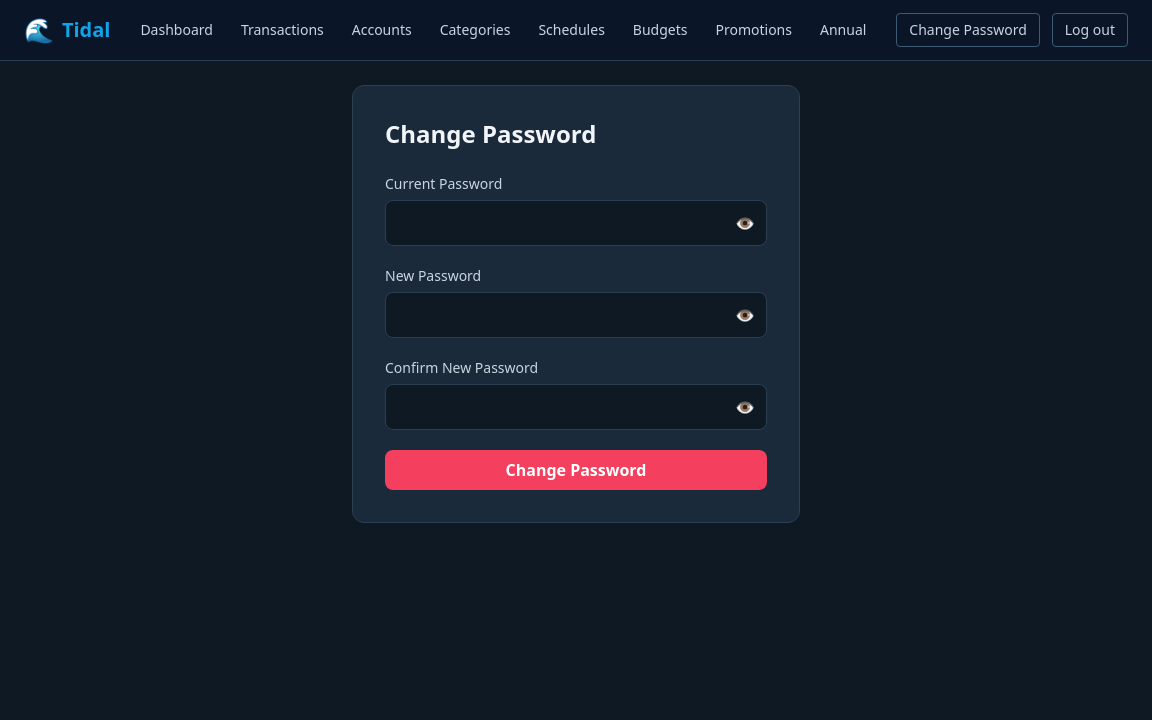
Scenario: ChangePasswordPage › shows an error when new passwords do not match
Type "oldpass123" into the password field labelled "Current Password" at {"x": 576, "y": 223}, box [385, 200, 767, 246]
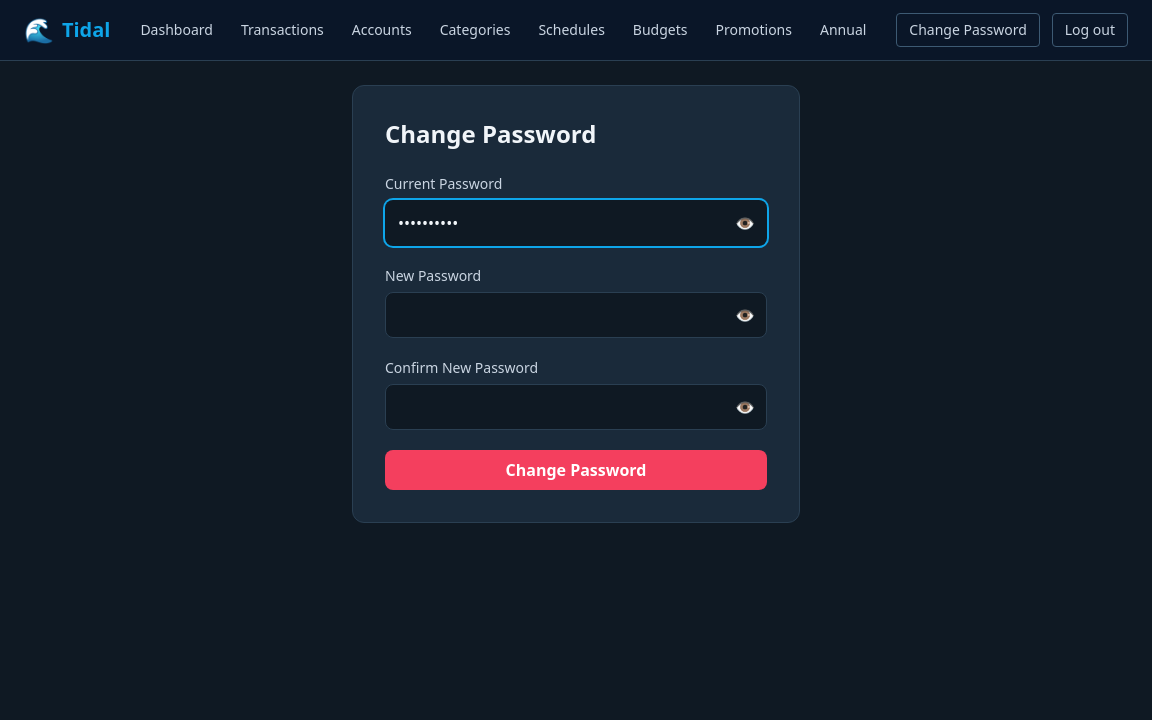
Type "newpass123" into the password field labelled "New Password" at {"x": 576, "y": 315}, box [385, 292, 767, 338]
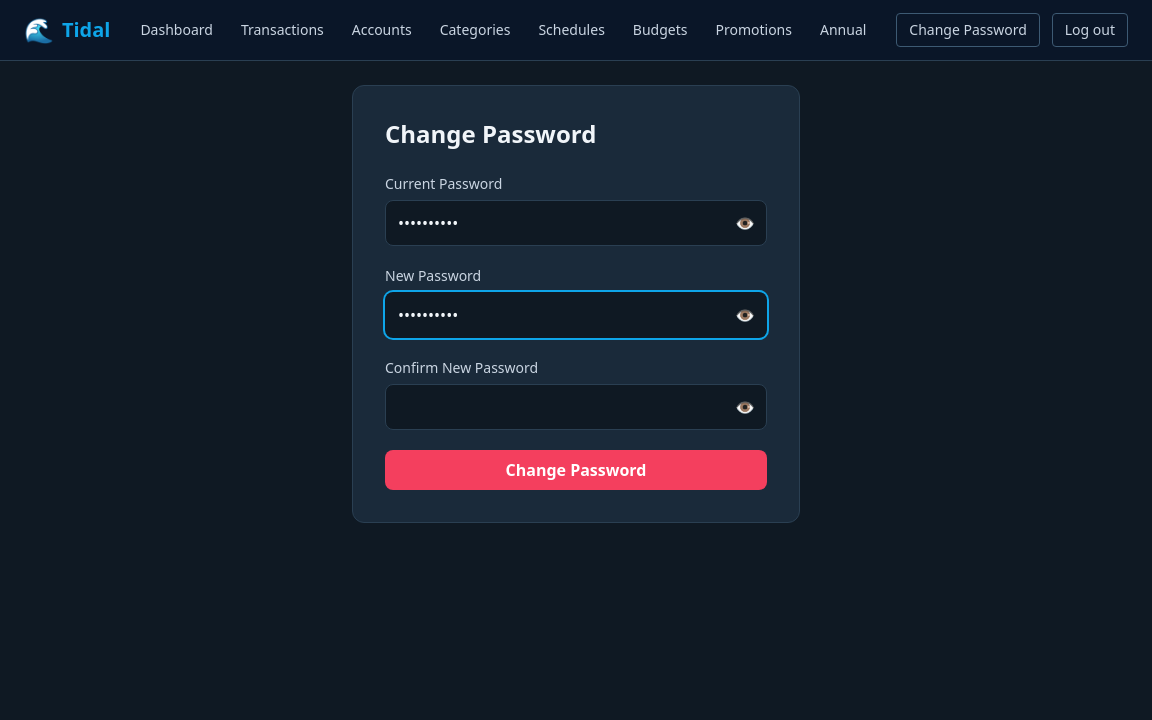
Type "different123" into the password field labelled "Confirm New Password" at {"x": 576, "y": 407}, box [385, 384, 767, 430]
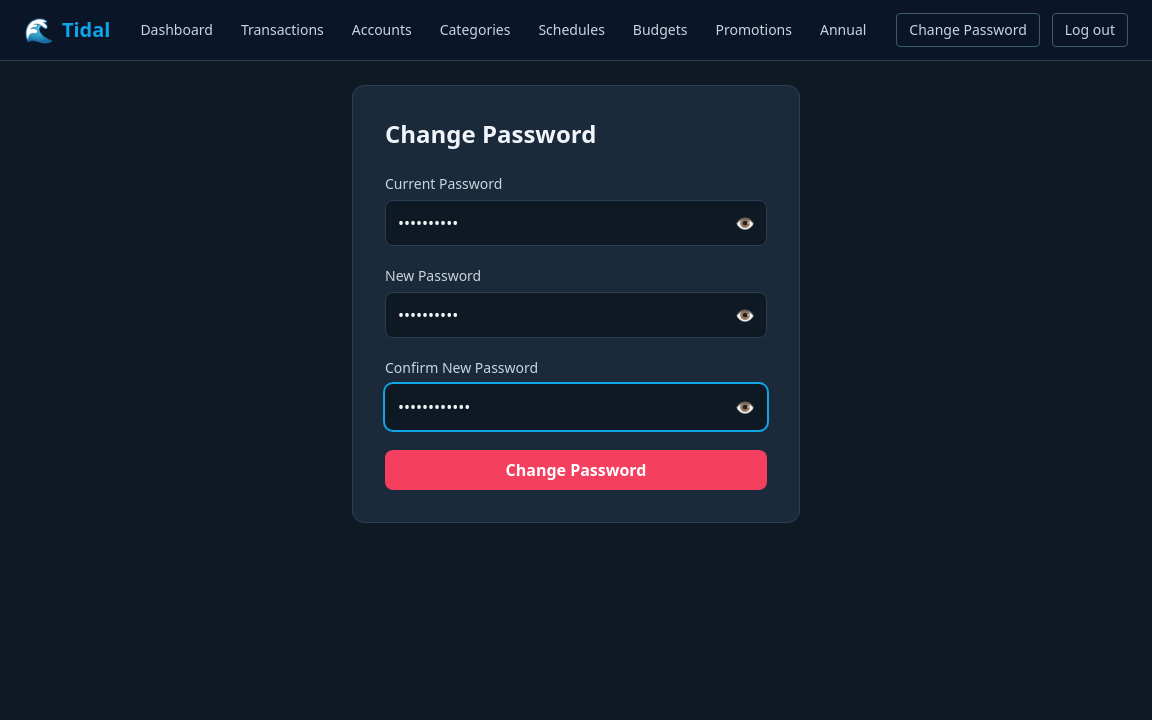
Click the button "Change Password" at {"x": 576, "y": 470}, box [385, 450, 767, 490]
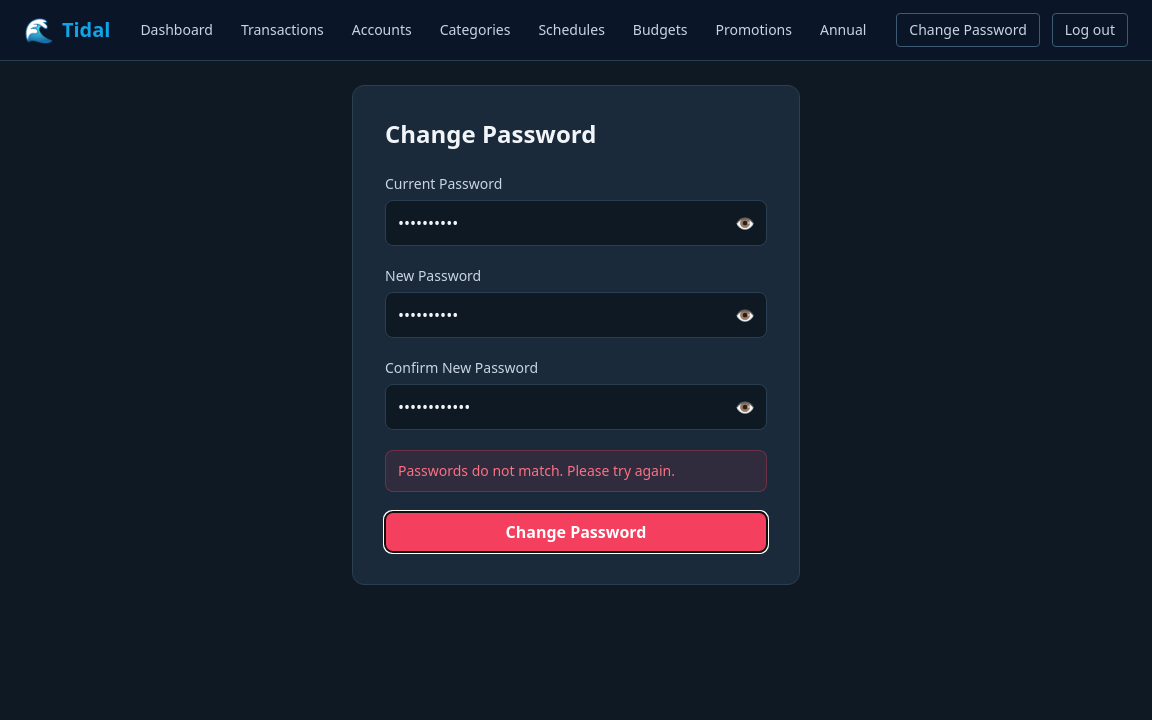
Check: the text "Passwords do not match. Please try again." is shown, box [398, 461, 675, 480]
